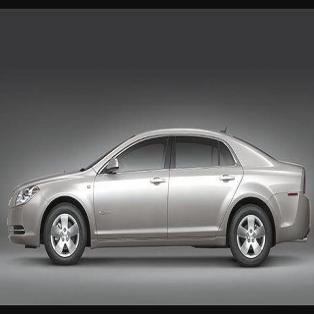Auto: (6, 126, 311, 267)
